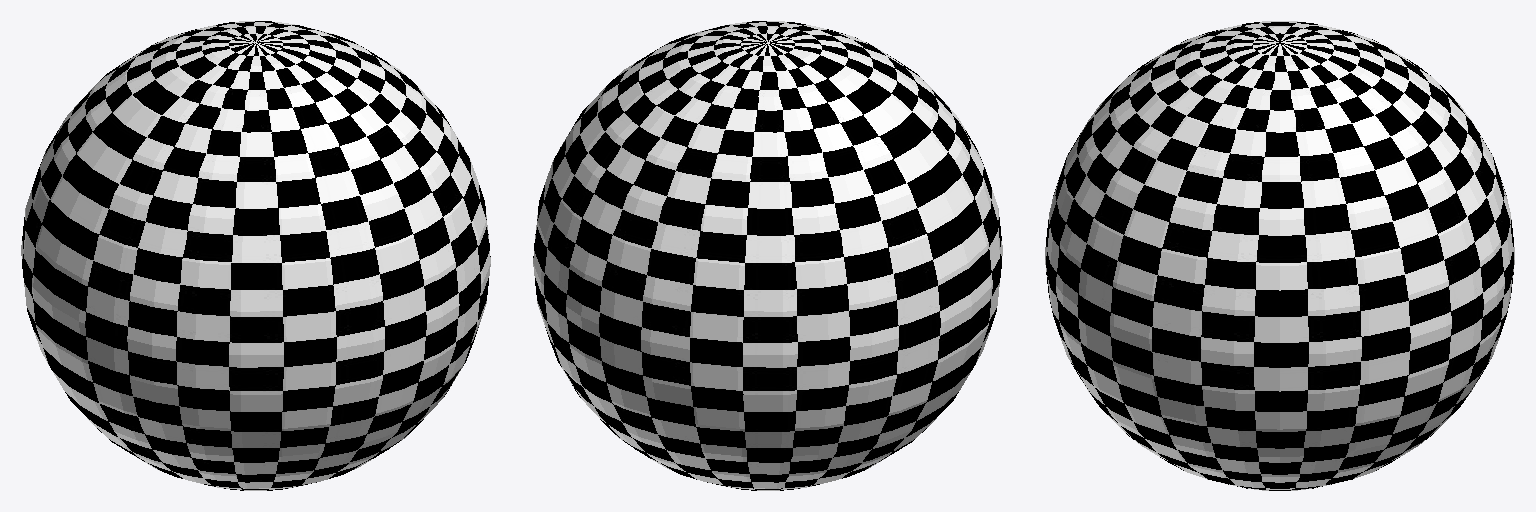
3 renders of one model, left to right at view 1: azimuth 30°, elevation 25°; view 2: azimuth 150°, elevation 25°; view 3: azimuth 270°, elevation 25°, orthographic.
Visible parts, largest first — view 1: Plane; view 2: Plane; view 3: Plane.
Boxes of the visible parts, box(x1,y1,x2,y2) form: Plane: box(21, 21, 490, 490); Plane: box(533, 21, 1002, 490); Plane: box(1045, 21, 1514, 490).
Size of the model in its own units: 200 by 200 by 200.
1 materials, 1 textured.